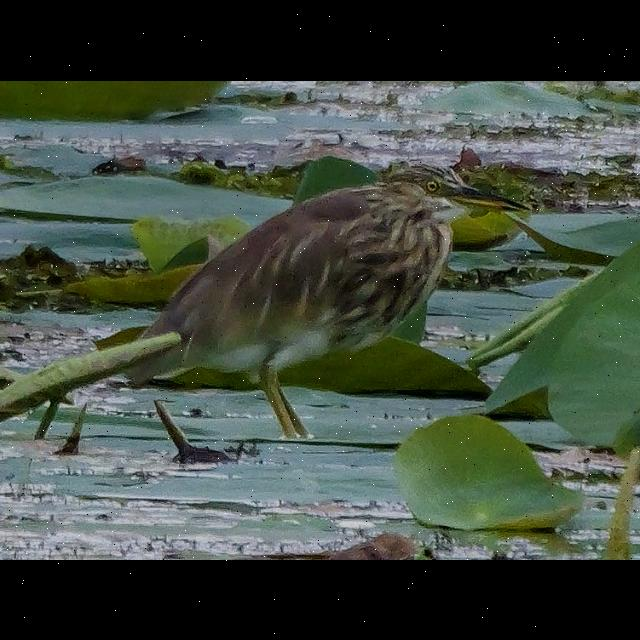heron: (115, 153, 540, 444)
